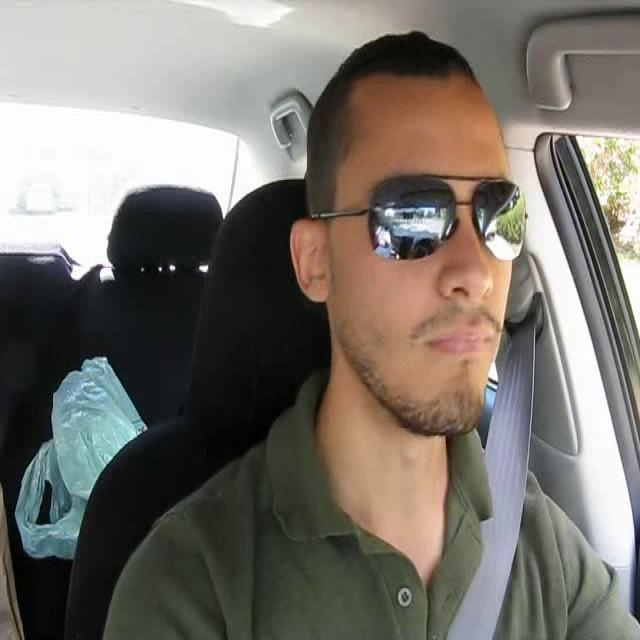close: (422, 316, 498, 358)
